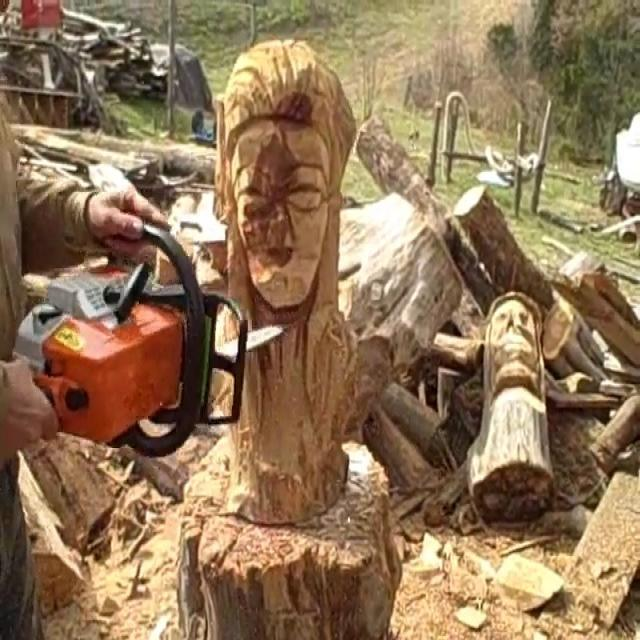Chainsaw: (14, 190, 313, 467)
